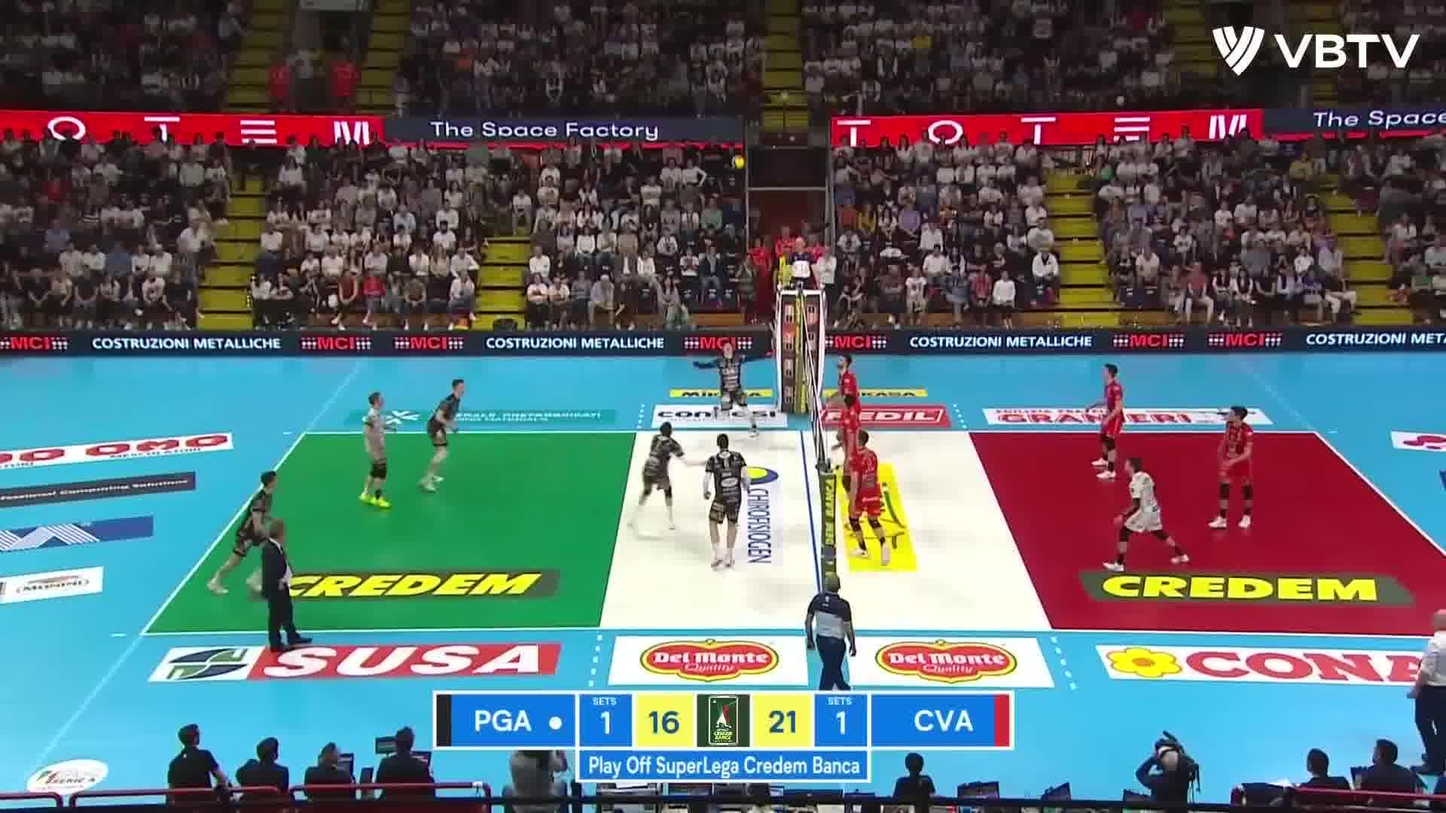balls: (728, 153, 750, 174)
